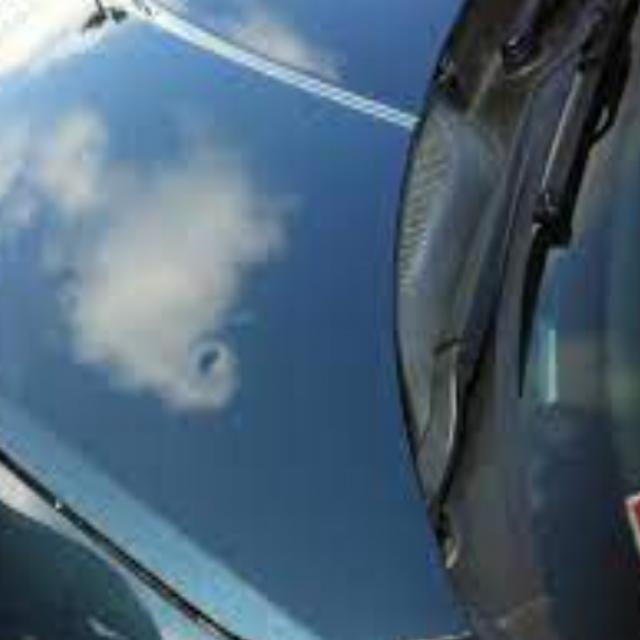dents: (191, 338, 248, 409)
